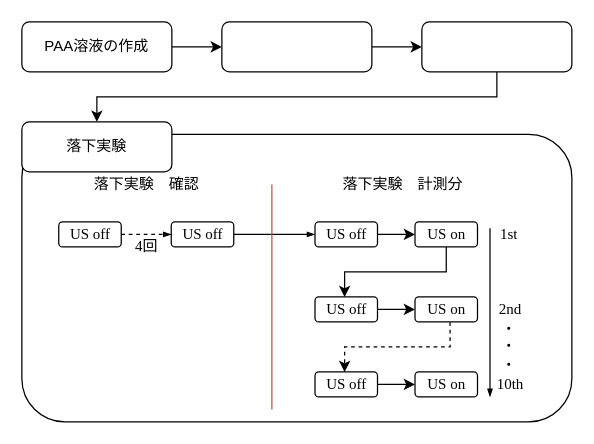
This 594x444 diagram has some shape labels left out. Each missing label, with the centre of its shape:
"圧力場計測" belongs at (x=496, y=46).
"粘度計測" belongs at (x=296, y=46).
